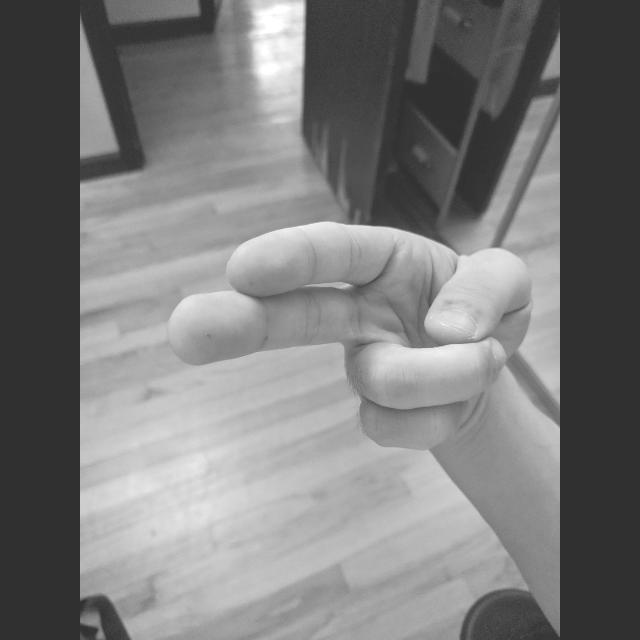H: (160, 216, 538, 457)
